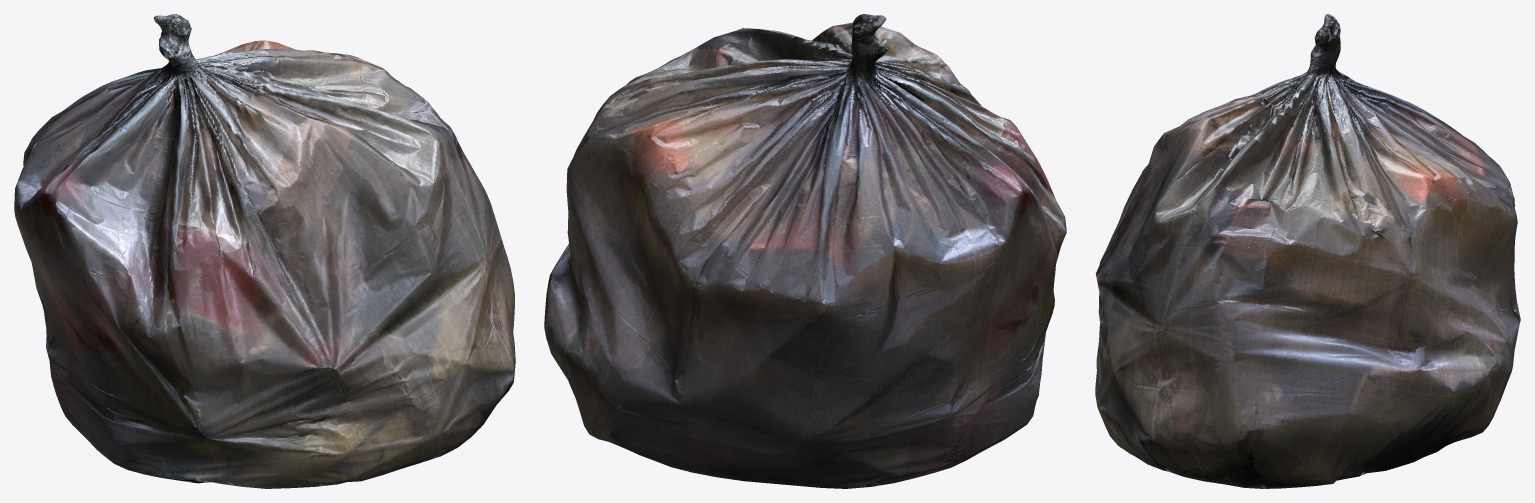
The model's file is bag.fbx.
3 views of the same model, side by side, from view 1: azimuth 30°, elevation 25°; view 2: azimuth 150°, elevation 25°; view 3: azimuth 270°, elevation 25° (orthographic). The views are drawn at different scales.
Visible parts, largest first — view 1: normal1; view 2: normal1; view 3: normal1.
Boxes of the visible parts, box(x1,y1,x2,y2) form: normal1: box(14, 14, 515, 488); normal1: box(544, 14, 1066, 488); normal1: box(1095, 14, 1520, 488).
Bounding box in the file's own units: 247 × 213 × 232.
1 material, 1 textured.
